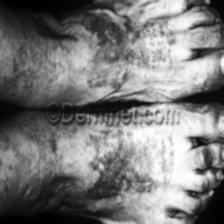Toxin: (82, 19, 175, 90), (86, 130, 174, 204)
